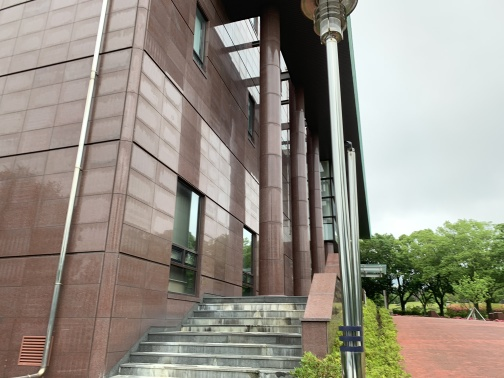Museum: (144, 1, 385, 378)
